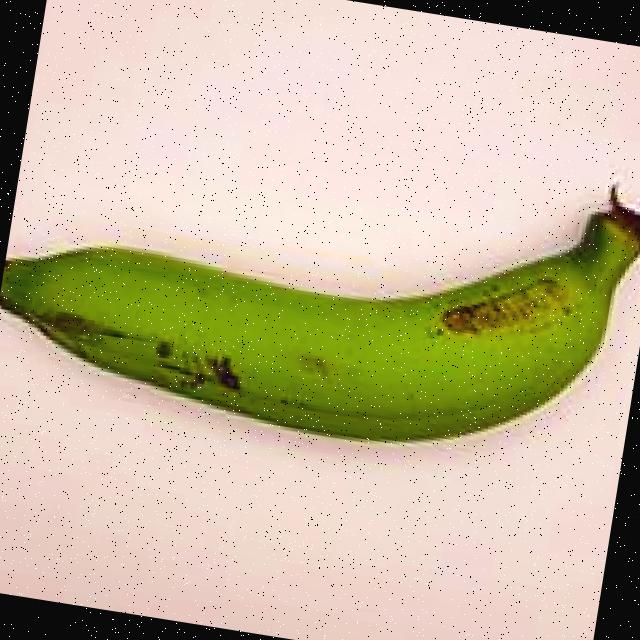Raw: (0, 73, 640, 499)
